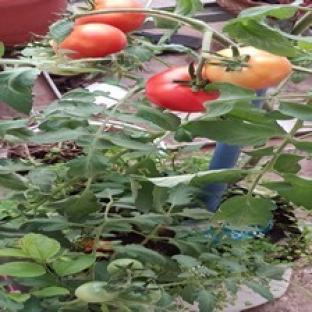Tomato: (205, 46, 292, 89), (145, 66, 218, 112), (59, 24, 126, 58), (76, 13, 146, 33), (76, 282, 116, 302), (108, 258, 143, 274), (97, 240, 112, 252)
